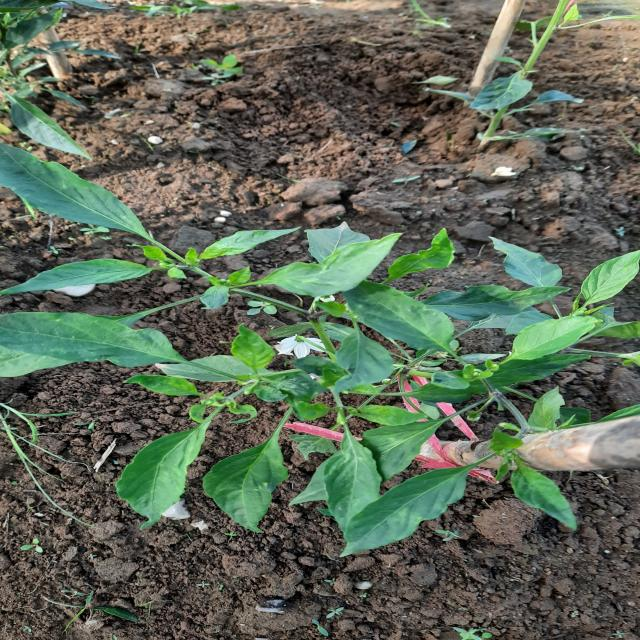sehat: (340, 461, 485, 561), (326, 284, 472, 362), (324, 438, 391, 520)
